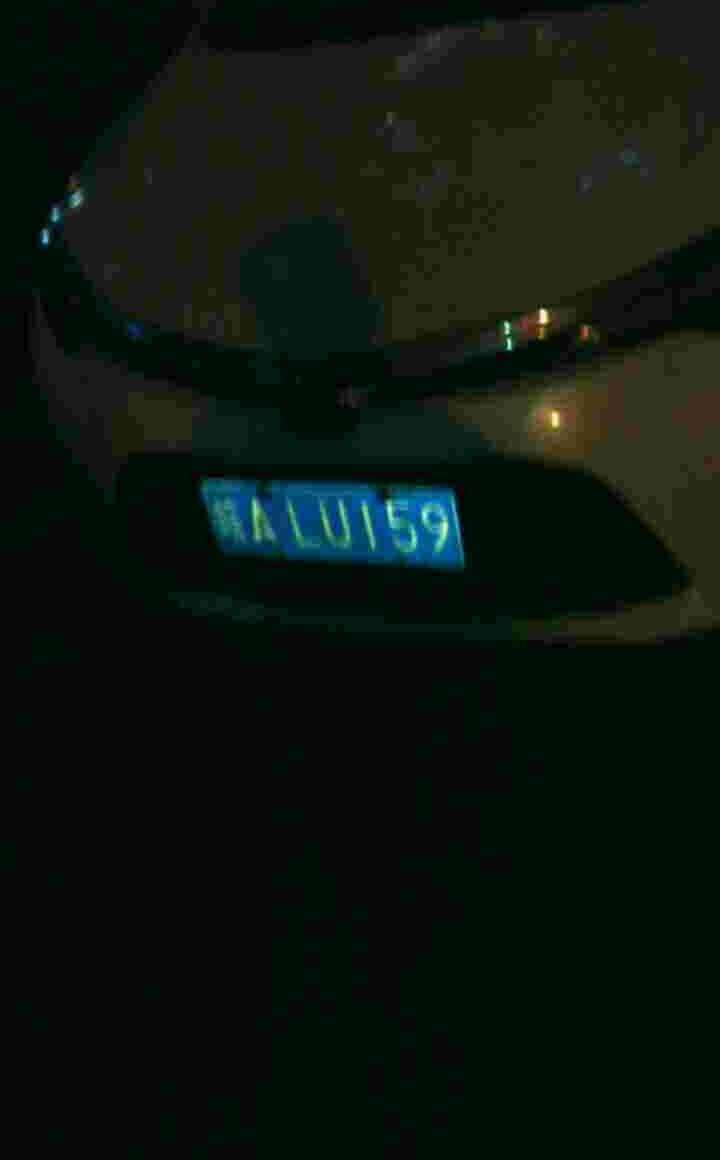plate: (196, 477, 474, 570)
